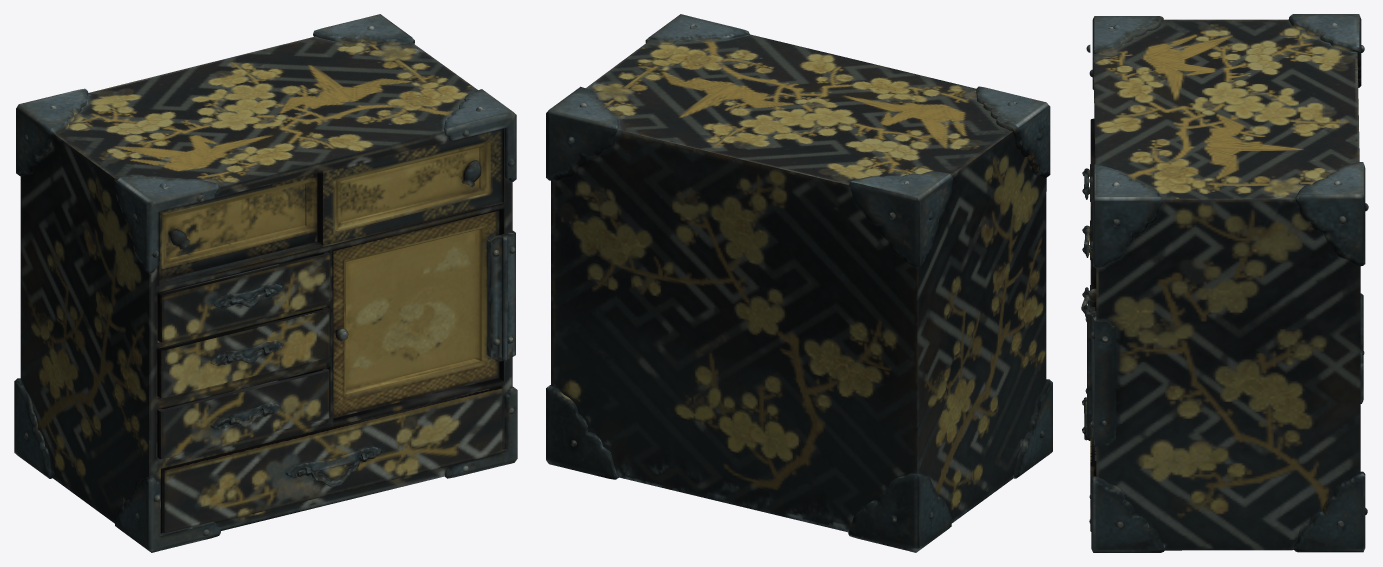
File: tansu.glb
The picture shows the model from 3 angles, left to right: view 1: azimuth 30°, elevation 25°; view 2: azimuth 150°, elevation 25°; view 3: azimuth 270°, elevation 25°; orthographic projection.
Visible parts, largest first — view 1: mesh; view 2: mesh; view 3: mesh.
Boxes of the visible parts, x1,y1,x2,y2 form: mesh: (14,14,517,552); mesh: (546,14,1052,552); mesh: (1081,14,1368,552).
Bounding box in the file's own units: 1.11 × 1 × 0.7229.
Materials: 1 (1 with a texture image).
